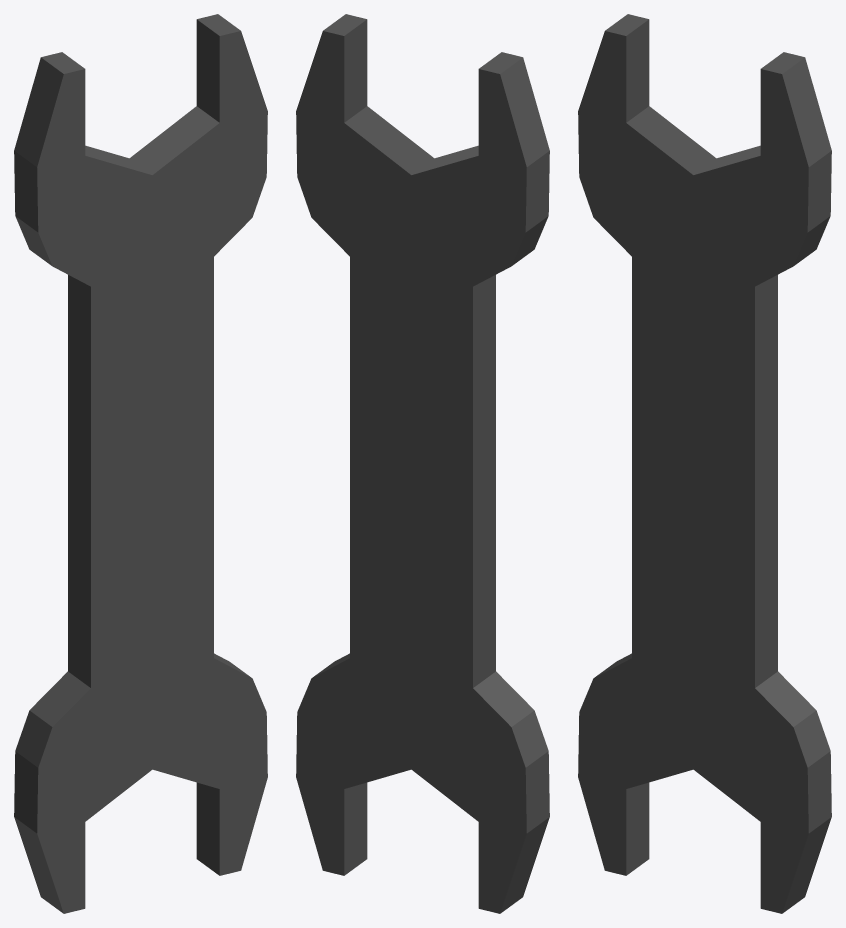
Rendered from WrenchLarge.fbx.
3 views of the same model, side by side, from view 1: azimuth 30°, elevation 25°; view 2: azimuth 150°, elevation 25°; view 3: azimuth 330°, elevation 25° (orthographic).
Visible parts, largest first — view 1: Wrench_Large; view 2: Wrench_Large; view 3: Wrench_Large.
Part boxes in pixels (x1=…): Wrench_Large: x1=14, y1=14, x2=267, y2=913; Wrench_Large: x1=296, y1=14, x2=549, y2=913; Wrench_Large: x1=578, y1=14, x2=831, y2=913.
Size of the model in its own units: 4.18 by 14.55 by 0.7244.
